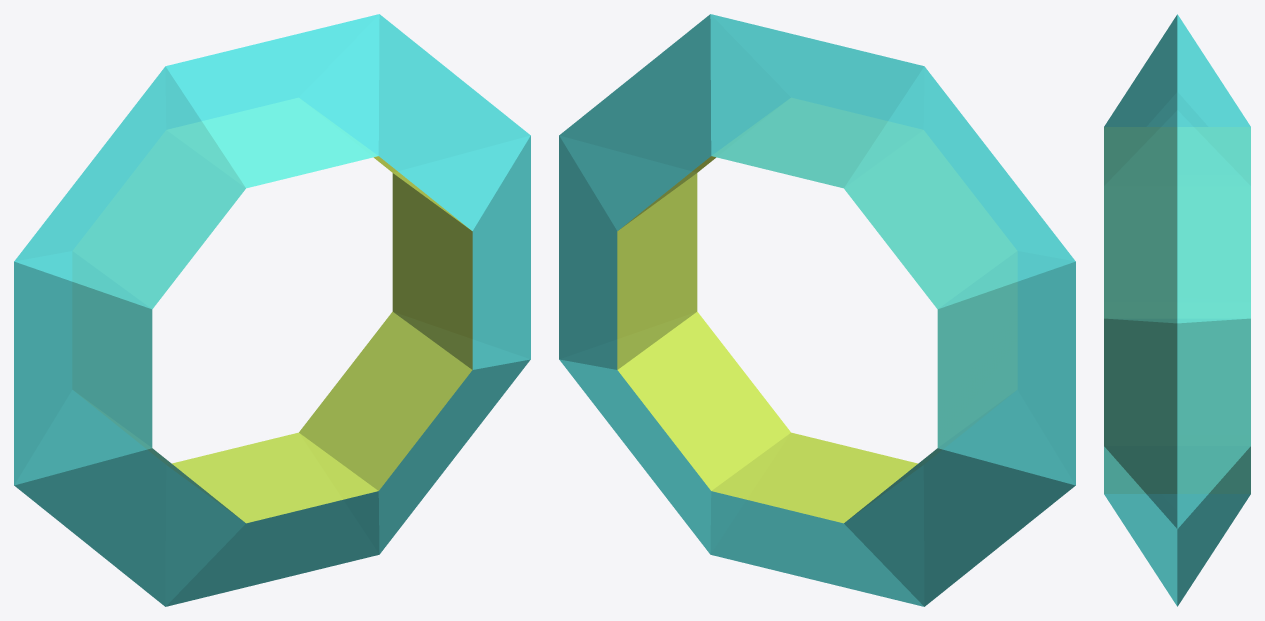
The model's file is Regular8TetragonalToroid.obj.
3 views of the same model, side by side, from view 1: azimuth 30°, elevation 25°; view 2: azimuth 150°, elevation 25°; view 3: azimuth 270°, elevation 25° (orthographic). The views are drawn at different scales.
Size of the model in its own units: 2.61 by 2.61 by 0.7.
